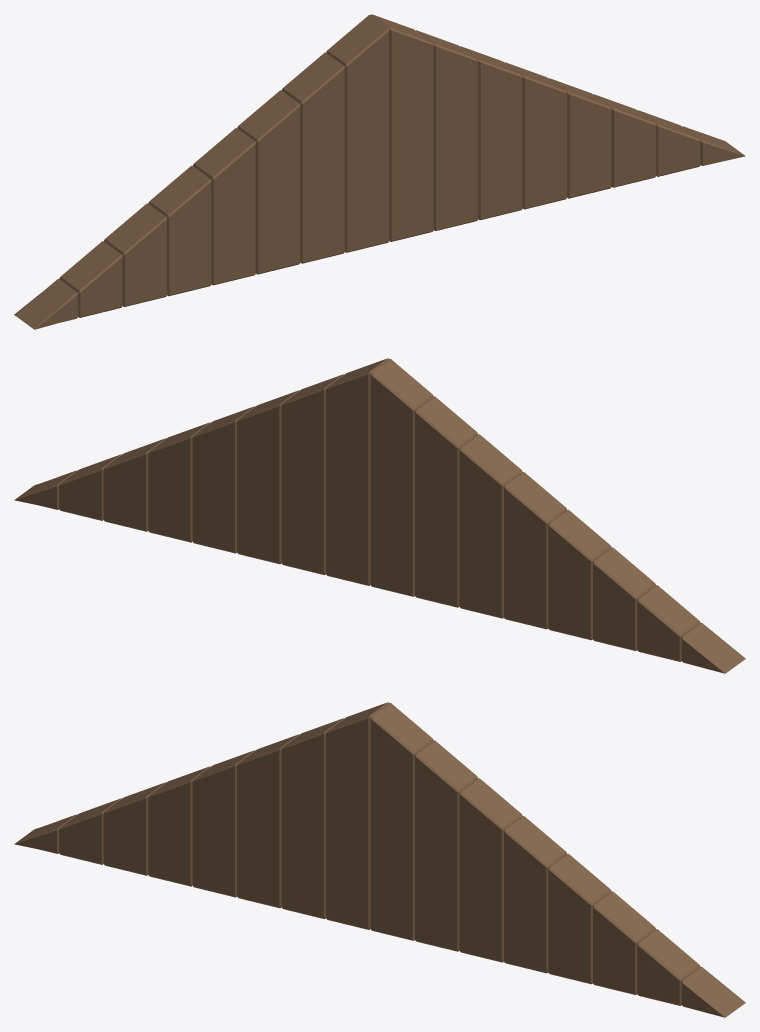
The model's file is SM_Wall_Gable_30.fbx.
3 renders of one model, top to bottom at view 1: azimuth 30°, elevation 25°; view 2: azimuth 150°, elevation 25°; view 3: azimuth 330°, elevation 25°, orthographic.
Visible parts, largest first — view 1: SM_Wall_Gable_30; view 2: SM_Wall_Gable_30; view 3: SM_Wall_Gable_30.
Boxes of the visible parts, x1,y1,x2,y2 form: SM_Wall_Gable_30: (14, 14, 745, 329); SM_Wall_Gable_30: (14, 358, 745, 673); SM_Wall_Gable_30: (14, 702, 745, 1017).
Bounding box in the file's own units: 4 × 1.15 × 0.2.
